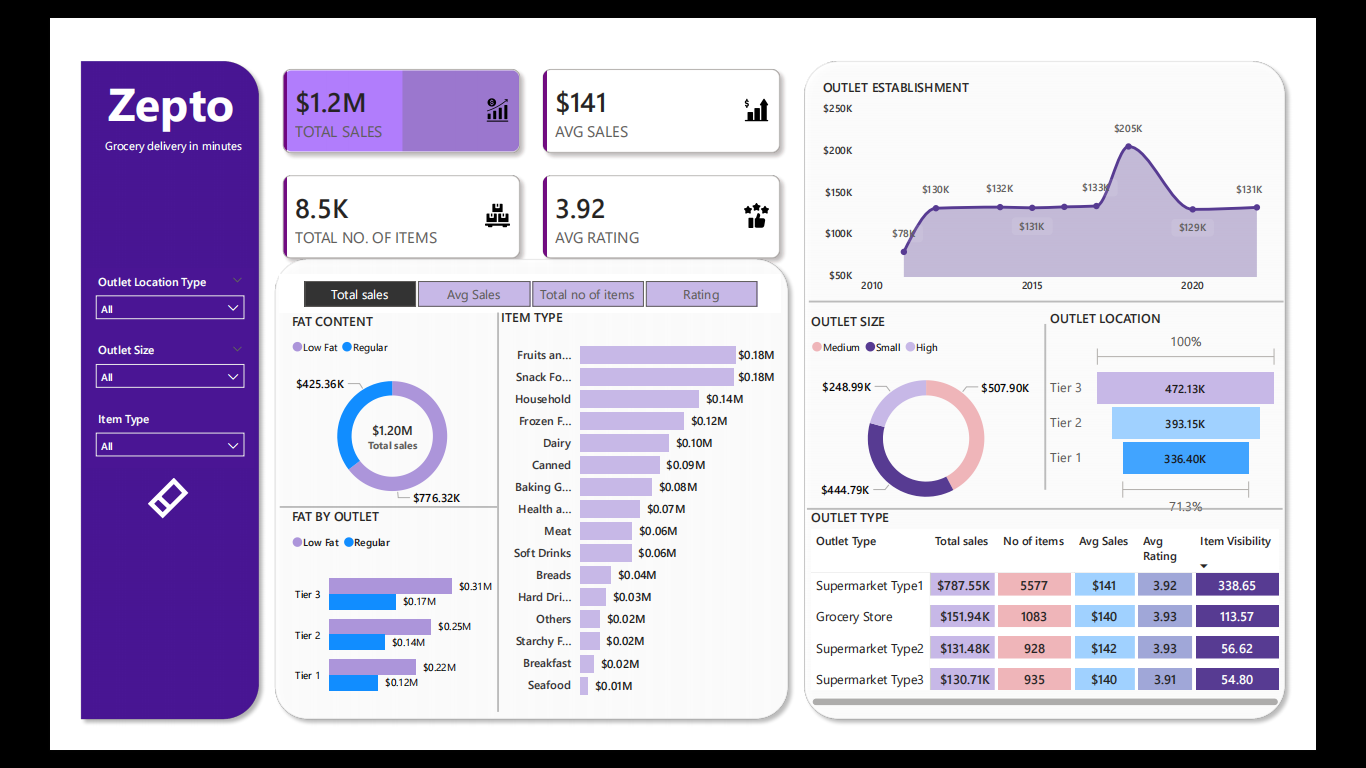

This screenshot's page, from the dashboard's own definition file:
{"tool":"powerbi","page":{"name":"Page 1","canvas":[1280,720],"ordinal":0},"visuals":[{"type":"shape","box":[0,13,204.5,707],"z":0},{"type":"textbox","box":[31.7,27.4,205.9,80.6],"z":1000},{"type":"textbox","box":[28.8,96.5,208.8,43.2],"z":2000},{"type":"cardVisual","fields":{"Data":["BlinkIT Grocery Data.Total sales","BlinkIT Grocery Data.Avg Sales","BlinkIT Grocery Data.Total no of items","BlinkIT Grocery Data.Avg Rating"]},"box":[204.5,13,554.4,231.8],"z":3000},{"type":"shape","box":[204.5,220.3,554.4,499.7],"z":4000},{"type":"donutChart","title":"FAT CONTENT","fields":{"Y":["BlinkIT Grocery Data.Total sales"],"Category":["BlinkIT Grocery Data.Item Fat Content"]},"box":[224.6,285.1,220.3,215],"z":5000},{"type":"slicer","fields":{"Values":["Metrics.Metrics"]},"box":[217.4,244.8,524.2,40.3],"z":6000},{"type":"cardVisual","fields":{"Data":["BlinkIT Grocery Data.Total sales"]},"box":[263.5,351.4,144,96.5],"z":7000},{"type":"clusteredBarChart","title":"FAT BY OUTLET","fields":{"Y":["BlinkIT Grocery Data.Total sales"],"Category":["BlinkIT Grocery Data.Outlet Location Type"],"Series":["BlinkIT Grocery Data.Item Fat Content"]},"box":[224.6,489.6,220,215],"z":8000},{"type":"shape","box":[217.4,430.6,227.5,116.6],"z":9000},{"type":"shape","box":[355.7,285.1,180,419],"z":10000},{"type":"barChart","title":"ITEM TYPE","fields":{"Y":["BlinkIT Grocery Data.Total sales"],"Category":["BlinkIT Grocery Data.Item Type"]},"box":[445,280.8,296.6,419],"z":11000},{"type":"shape","box":[758.9,13,521.3,707],"z":12000},{"type":"lineChart","title":"OUTLET ESTABLISHMENT","fields":{"Category":["BlinkIT Grocery Data.Outlet Establishment Year"],"Y":["BlinkIT Grocery Data.Total sales"]},"box":[781.9,40.3,476.6,234.7],"z":13000},{"type":"shape","box":[771.8,236.2,498.2,74.9],"z":14000},{"type":"donutChart","title":"OUTLET SIZE","fields":{"Y":["BlinkIT Grocery Data.Total sales"],"Category":["BlinkIT Grocery Data.Outlet Size"]},"box":[770.4,285.1,249.1,220.3],"z":15000},{"type":"shape","box":[930.2,296.6,180,174.2],"z":16000},{"type":"funnel","title":"OUTLET LOCATION","fields":{"Y":["Sum(BlinkIT Grocery Data.Sales)"],"Category":["BlinkIT Grocery Data.Outlet Location Type"]},"box":[1021,282.2,249.1,220.3],"z":17000},{"type":"shape","box":[770.4,453.6,498.2,74.9],"z":18000},{"type":"pivotTable","title":"OUTLET TYPE","fields":{"Values":["BlinkIT Grocery Data.Total sales","BlinkIT Grocery Data.Total no of items","BlinkIT Grocery Data.Avg Sales","BlinkIT Grocery Data.Avg Rating","Sum(BlinkIT Grocery Data.Item Visibility)"],"Rows":["BlinkIT Grocery Data.Outlet Type"]},"box":[770.4,491,499.7,211.7],"z":19000},{"type":"slicer","fields":{"Values":["BlinkIT Grocery Data.Outlet Size"]},"box":[14.4,311,175.7,72],"z":20000},{"type":"slicer","fields":{"Values":["BlinkIT Grocery Data.Outlet Location Type"]},"box":[14.4,239,175.7,72],"z":21000},{"type":"slicer","fields":{"Values":["BlinkIT Grocery Data.Item Type"]},"box":[14.4,383,175.7,64.8],"z":22000},{"type":"actionButton","box":[0,455,200.2,50.4],"z":23000}]}

Visuals, with their boxes in screenshot pixels (x1, y1, x2, y2), scaled from the page's 1280x720 canvas onto the 1366x768 screenshot:
shape: [left=0, top=14, right=218, bottom=767]
textbox: [left=34, top=29, right=254, bottom=115]
textbox: [left=31, top=103, right=254, bottom=149]
cardVisual - BlinkIT Grocery Data.Total sales x BlinkIT Grocery Data.Avg Sales: [left=218, top=14, right=810, bottom=261]
shape: [left=218, top=235, right=810, bottom=767]
"FAT CONTENT" donutChart: [left=240, top=304, right=475, bottom=533]
slicer - Metrics.Metrics: [left=232, top=261, right=791, bottom=304]
cardVisual - BlinkIT Grocery Data.Total sales: [left=281, top=375, right=435, bottom=478]
"FAT BY OUTLET" clusteredBarChart: [left=240, top=522, right=474, bottom=752]
shape: [left=232, top=459, right=475, bottom=584]
shape: [left=380, top=304, right=572, bottom=751]
"ITEM TYPE" barChart: [left=475, top=300, right=791, bottom=746]
shape: [left=810, top=14, right=1365, bottom=767]
"OUTLET ESTABLISHMENT" lineChart: [left=834, top=43, right=1343, bottom=293]
shape: [left=824, top=252, right=1355, bottom=332]
"OUTLET SIZE" donutChart: [left=822, top=304, right=1088, bottom=539]
shape: [left=993, top=316, right=1185, bottom=502]
"OUTLET LOCATION" funnel: [left=1090, top=301, right=1355, bottom=536]
shape: [left=822, top=484, right=1354, bottom=564]
"OUTLET TYPE" pivotTable: [left=822, top=524, right=1355, bottom=750]
slicer - BlinkIT Grocery Data.Outlet Size: [left=15, top=332, right=203, bottom=409]
slicer - BlinkIT Grocery Data.Outlet Location Type: [left=15, top=255, right=203, bottom=332]
slicer - BlinkIT Grocery Data.Item Type: [left=15, top=409, right=203, bottom=478]
actionButton: [left=0, top=485, right=214, bottom=539]
